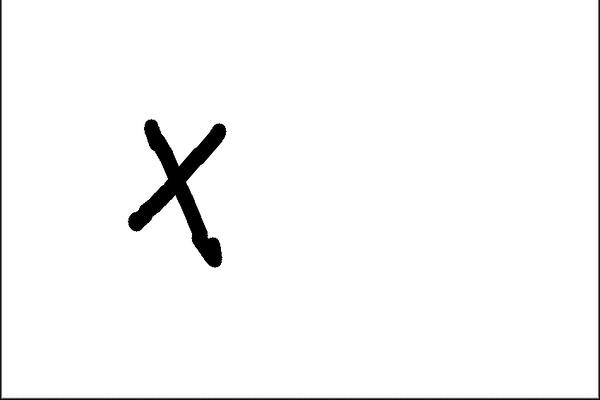X: (113, 108, 237, 279)
